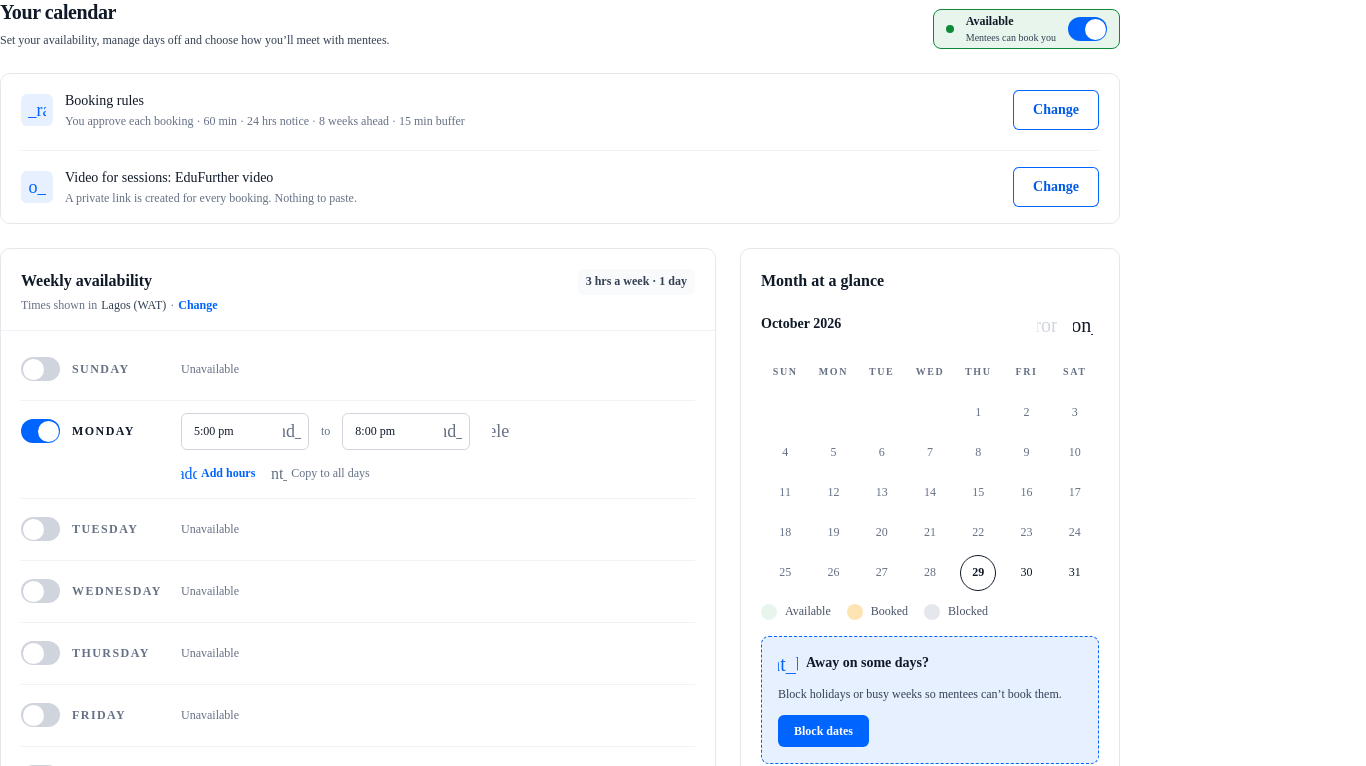
Test: CalendarScreen: busy and video › switching off asks when they’ll be back; Set as busy pauses with that date
This screenshot has width=1366, height=766.
Click the switch named "Available for new bookings": click(1088, 29) top-left (1068, 17), bottom-right (1107, 41)
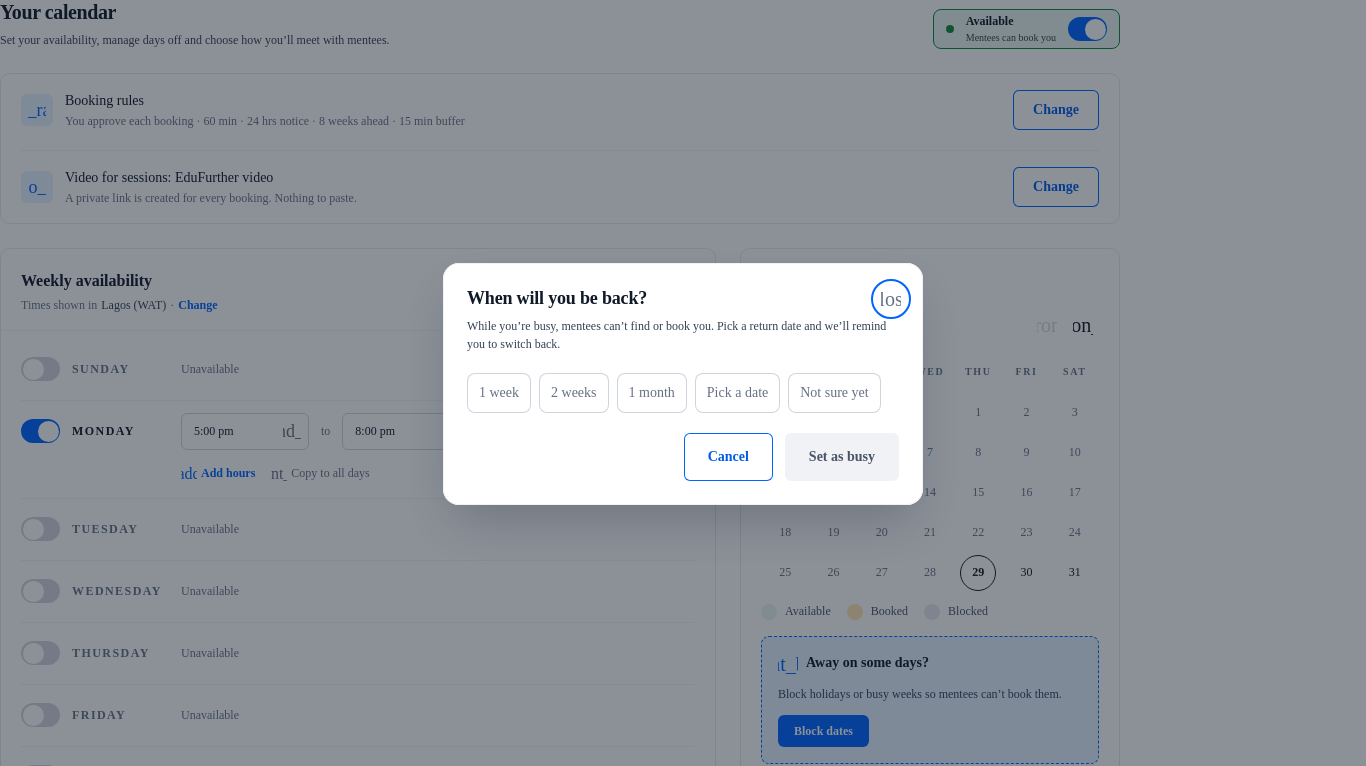
Expected: the button "Set as busy" is disabled, top-left (785, 433), bottom-right (899, 481)
Click the radio button labelled "Not sure yet": click(834, 393) top-left (788, 373), bottom-right (881, 413)
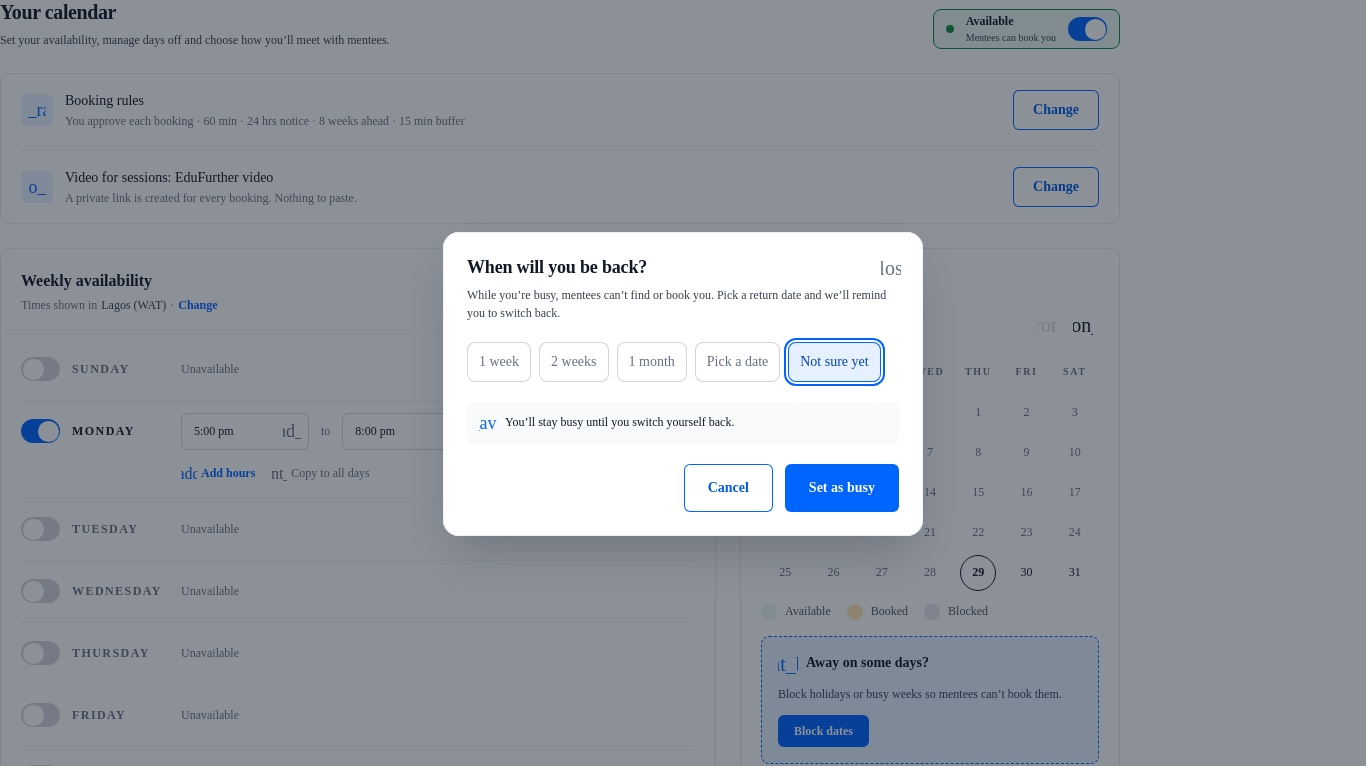
Click the button "Set as busy": click(842, 488) top-left (785, 464), bottom-right (899, 512)
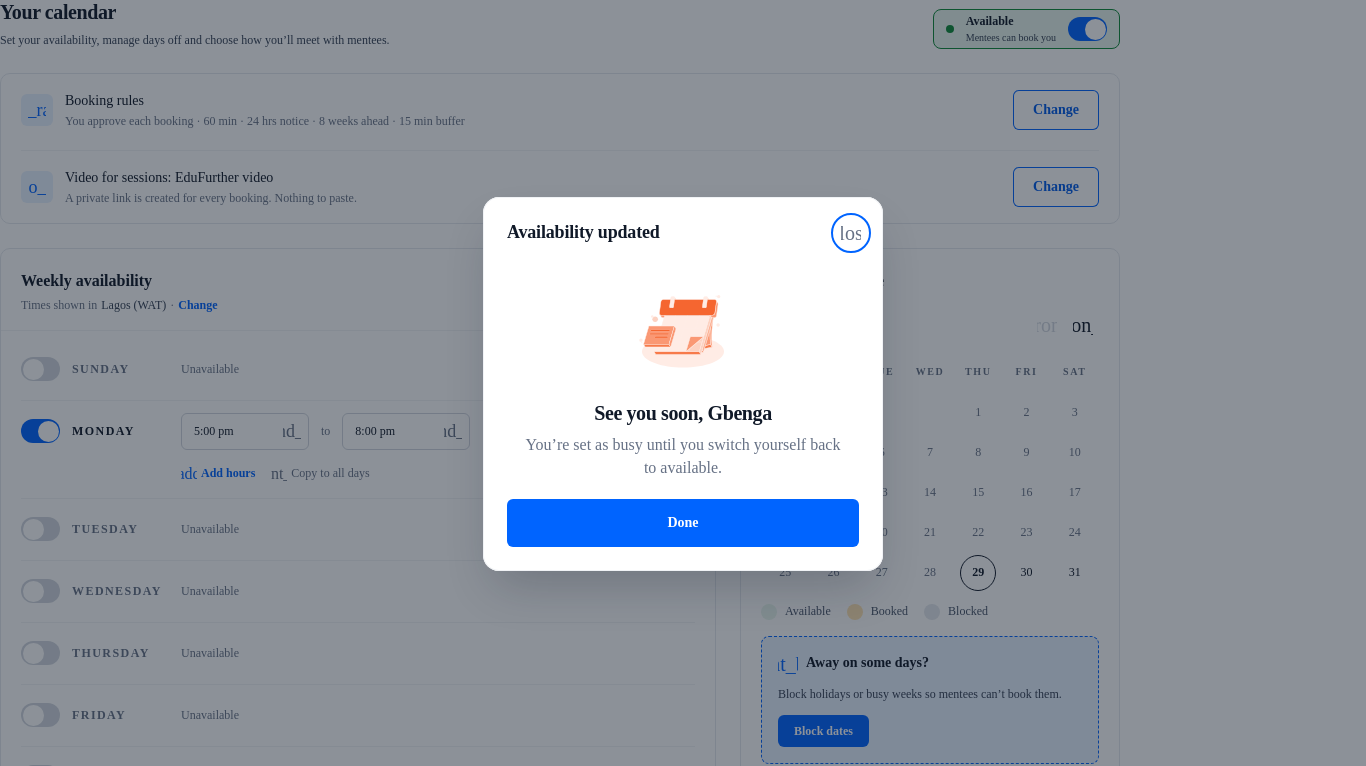
Expected: the dialog "Availability updated" shows "See you soon, Gbenga", top-left (594, 402), bottom-right (772, 424)
Expected: the text "You’re set as busy until you switch yourself back to available." is shown, top-left (507, 432), bottom-right (859, 479)
